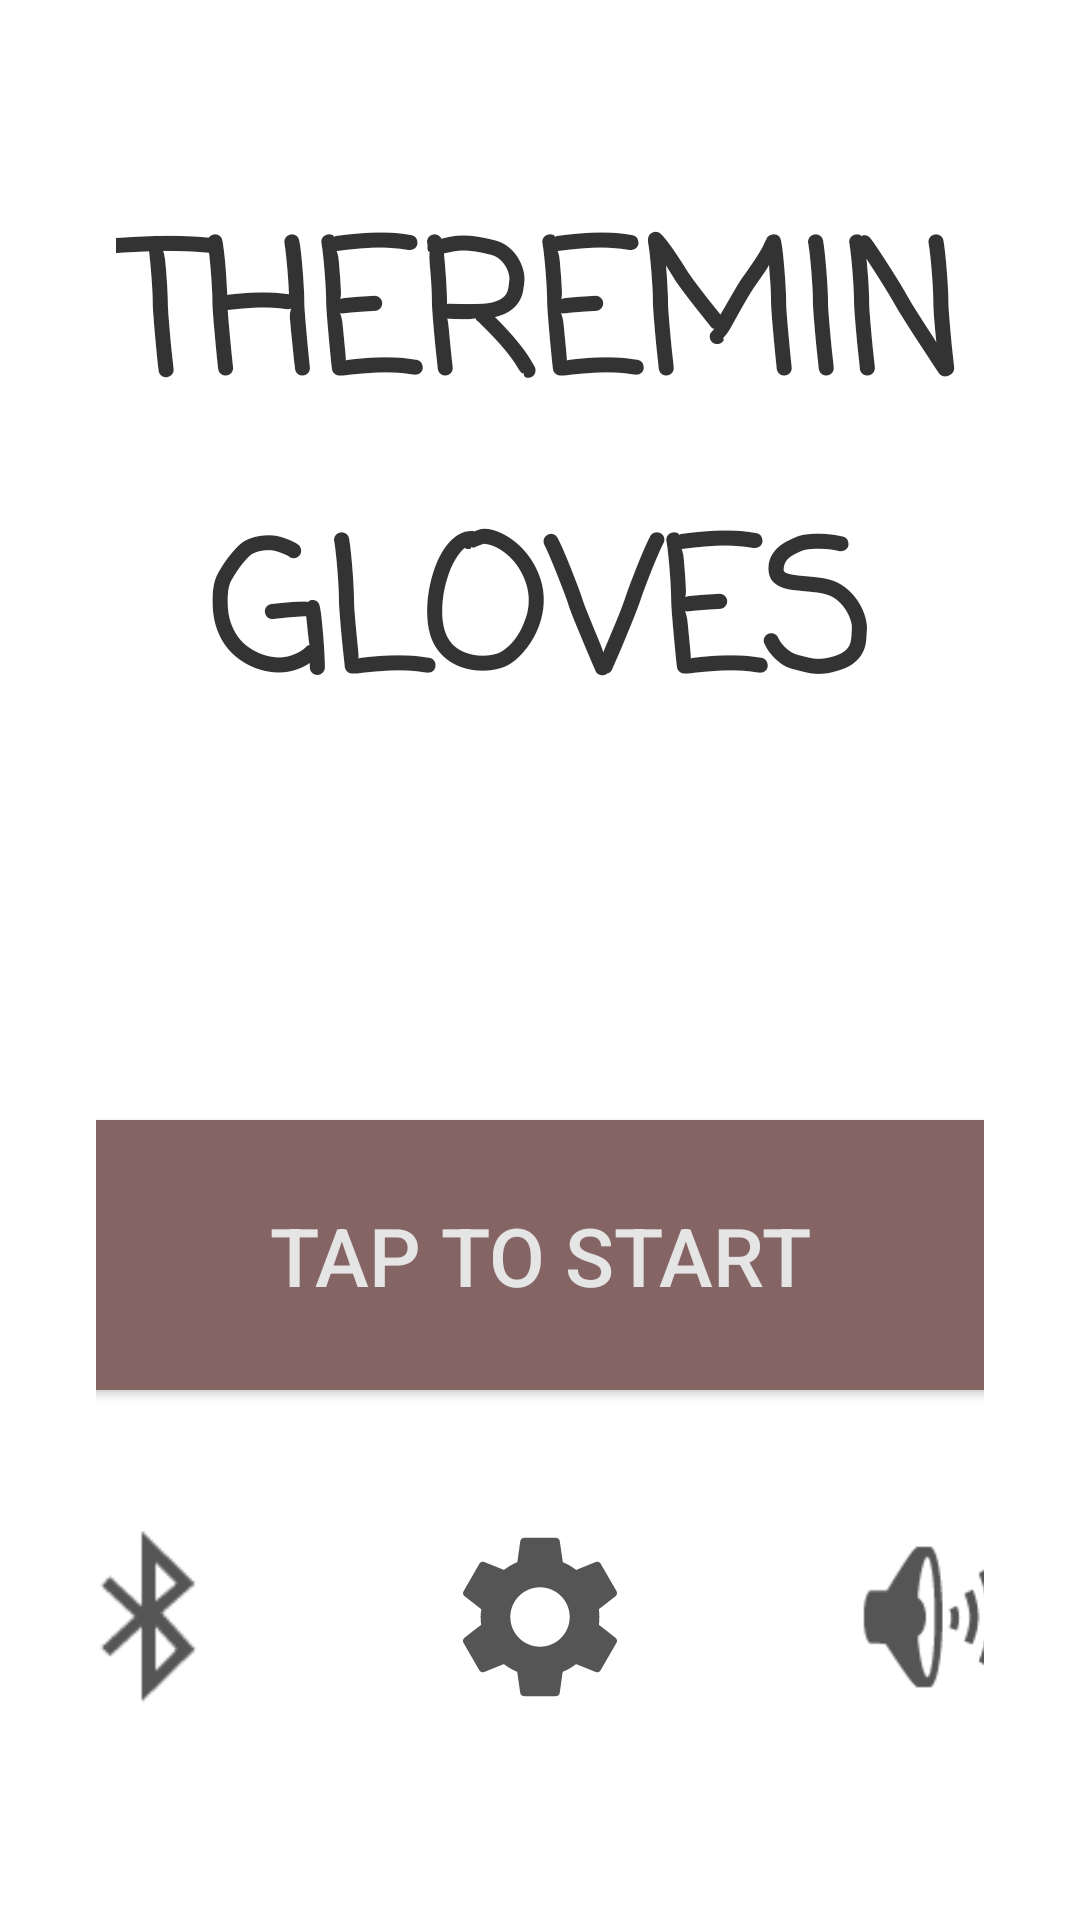

Named icons in this screenshot (1080 × 1920) and their bounding boxes, (x1, y1, x2, y2):
cog: (463, 1537, 617, 1697)
